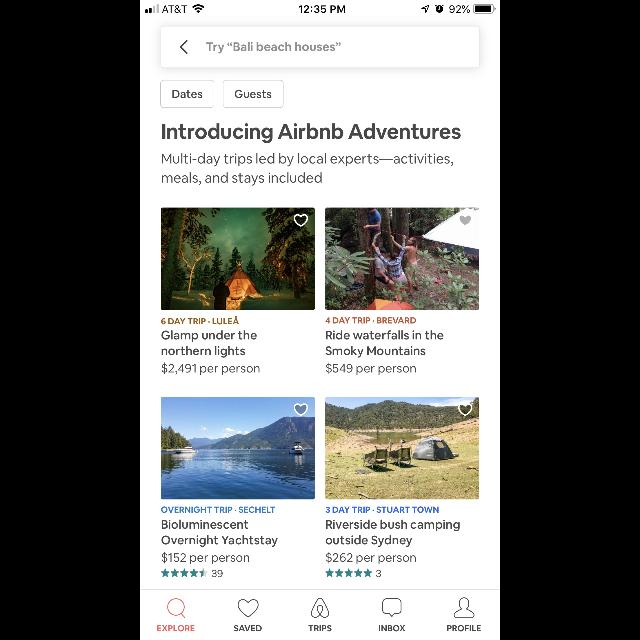icon: (326, 568, 372, 578), (382, 598, 402, 618), (454, 598, 474, 618), (160, 569, 208, 577), (167, 598, 185, 618), (238, 599, 258, 617), (311, 598, 329, 618), (294, 214, 308, 226), (293, 403, 307, 415), (458, 404, 472, 416), (180, 40, 188, 54), (460, 215, 470, 225)
image: (325, 208, 479, 310), (161, 397, 315, 499), (325, 397, 479, 499), (162, 208, 314, 310)
input: (160, 26, 480, 68)
text: (162, 154, 454, 186), (162, 123, 460, 143), (326, 520, 460, 546), (326, 330, 444, 358), (162, 520, 278, 546), (162, 330, 256, 358), (207, 42, 341, 54), (162, 362, 260, 376), (326, 362, 416, 376), (326, 552, 416, 564), (162, 552, 250, 564), (162, 507, 276, 513), (326, 507, 438, 513), (161, 316, 239, 324), (326, 317, 416, 323), (158, 625, 195, 631), (448, 625, 480, 631), (234, 625, 262, 631), (379, 625, 405, 631), (308, 625, 332, 631), (212, 570, 222, 578), (376, 570, 382, 578)
textbutton: (223, 80, 283, 108), (160, 80, 214, 108)
uppertaskbar: (140, 0, 500, 14)
